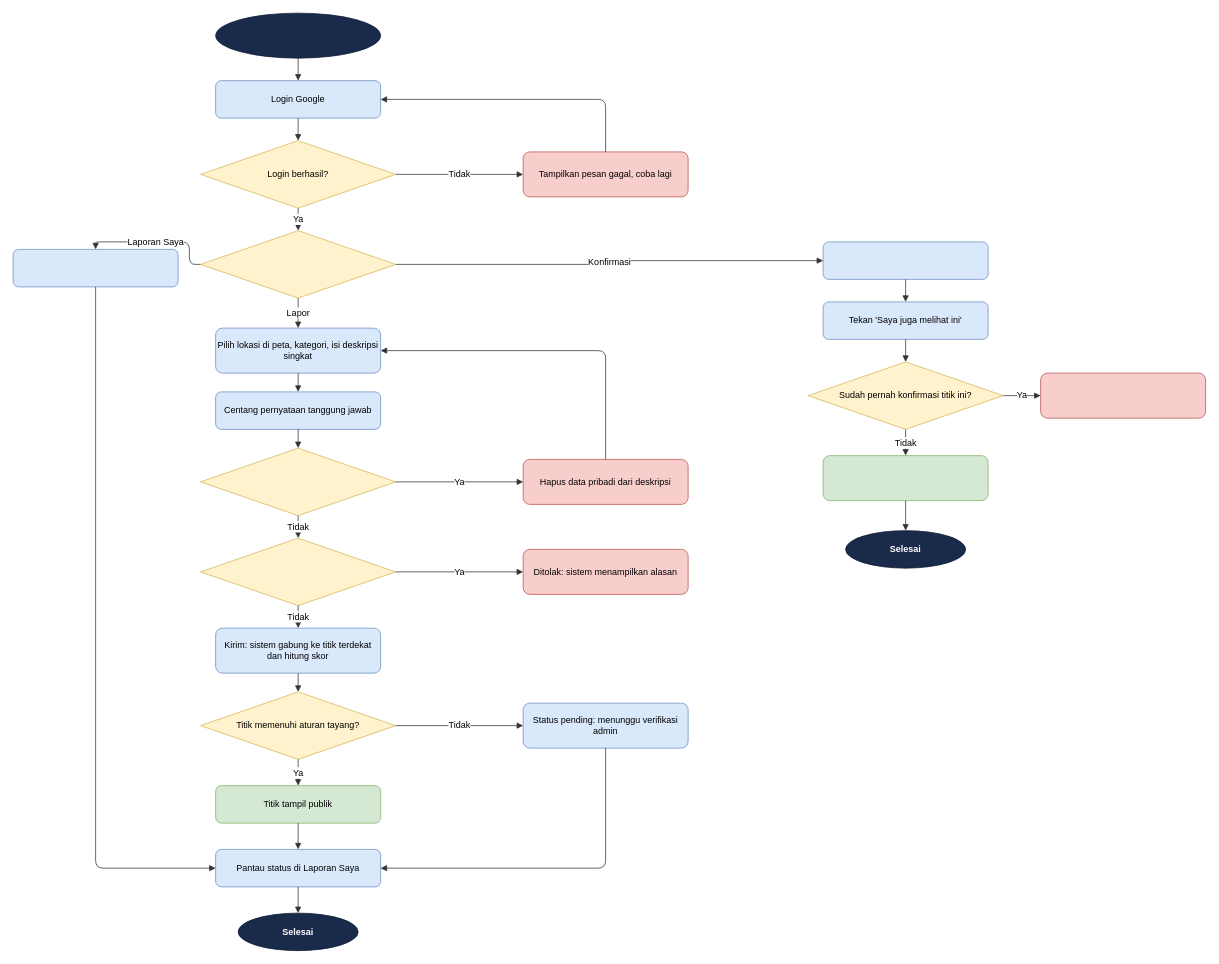
The diagram is 1219 pixels wide and 964 high, and some of its shapes have lost their labels. Here are the shapes that lost their labels. From the top down, the centre of each, then its label:
At point 298,35: "Mulai: buka beranda, pilih Lapor/Masuk".
At point 95,268: "Buka Laporan Saya".
At point 298,264: "Pilih aksi".
At point 905,260: "Buka detail titik".
At point 1123,395: "Ditolak: sudah pernah konfirmasi".
At point 298,481: "Data pribadi (plat/HP/NIK) terdeteksi?".
At point 905,478: "Konfirmasi tersimpan, skor kepercayaan naik".
At point 298,571: "Laporan ganda atau melebihi batas harian?".
